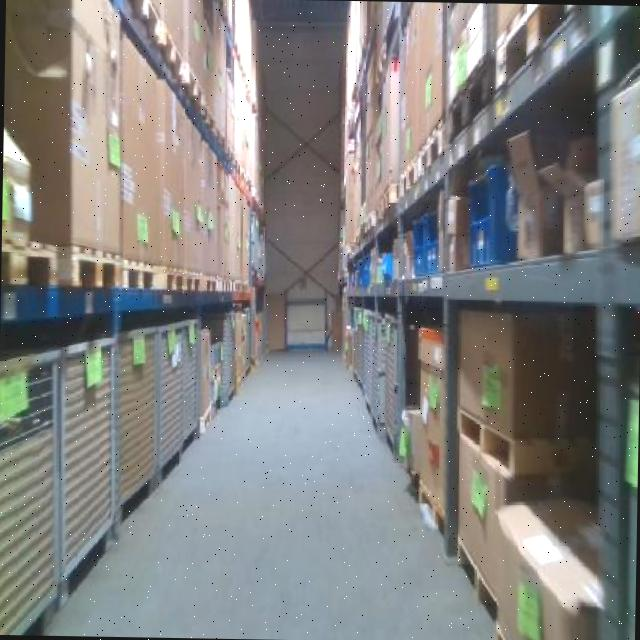pallet: (449, 392, 531, 491), (0, 225, 67, 299), (52, 232, 130, 295), (113, 0, 164, 58), (111, 251, 165, 296), (153, 260, 194, 300)
